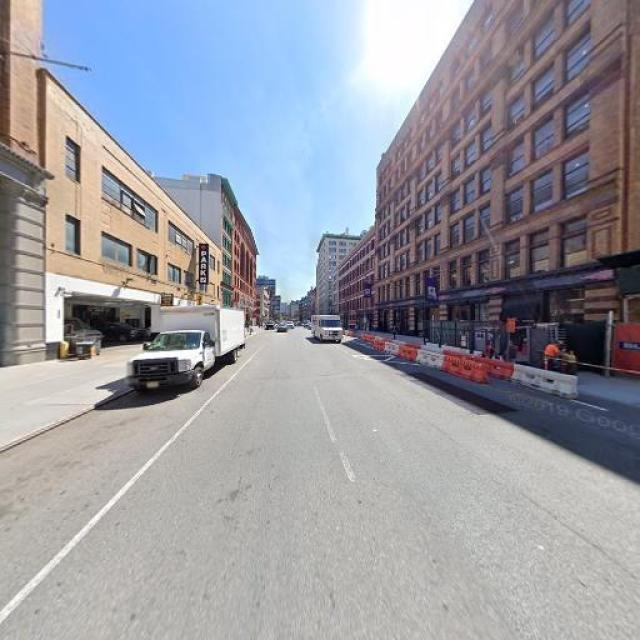Building: (377, 1, 628, 377), (48, 69, 222, 360), (1, 1, 40, 367), (334, 230, 374, 334), (226, 182, 254, 330)
